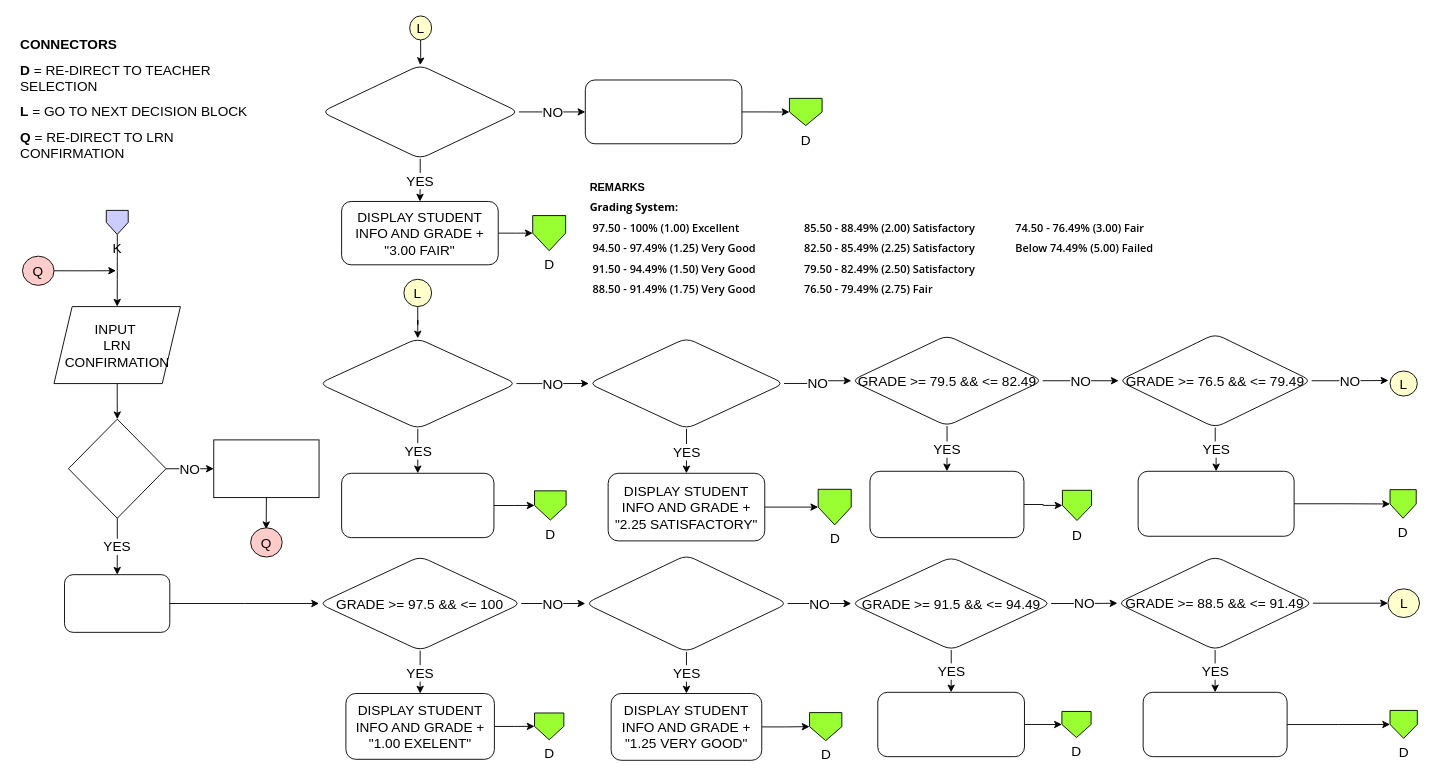
Image size: 1435x779. Some labels were removed from this diagram. Here are the shapes that lost their labels. From the top down, the box of each, then its label:
(321, 64, 519, 159): GRADE >= 74.5 && <= 76.49
(584, 79, 742, 144): DISPLAY STUDENT INFO AND GRADE + "FAILED"
(318, 337, 516, 429): GRADE >= 85.5 && <= 88.49
(588, 337, 784, 429): GRADE >= 82.5 && <= 85.49
(68, 418, 166, 518): CONFIRM LRN
(213, 439, 319, 498): DISPLAY WRONG LRN
(341, 472, 494, 538): DISPLAY STUDENT INFO AND GRADE + "2.00 SATISFACTORY"
(869, 470, 1024, 538): DISPLAY STUDENT INFO AND GRADE + "2.50 SATISFACTORY"
(1137, 470, 1294, 536): DISPLAY STUDENT INFO AND GRADE + "2.75 FAIR"
(64, 574, 170, 632): CALCULATION SEMESTER GRADE
(584, 554, 788, 652): GRADE >= 94.5 && <= 97.49
(877, 691, 1024, 757): DISPLAY STUDENT INFO AND GRADE + "1.50 VERY GOOD"
(1142, 691, 1287, 757): DISPLAY STUDENT INFO AND GRADE + "1.75 VERY GOOD"
